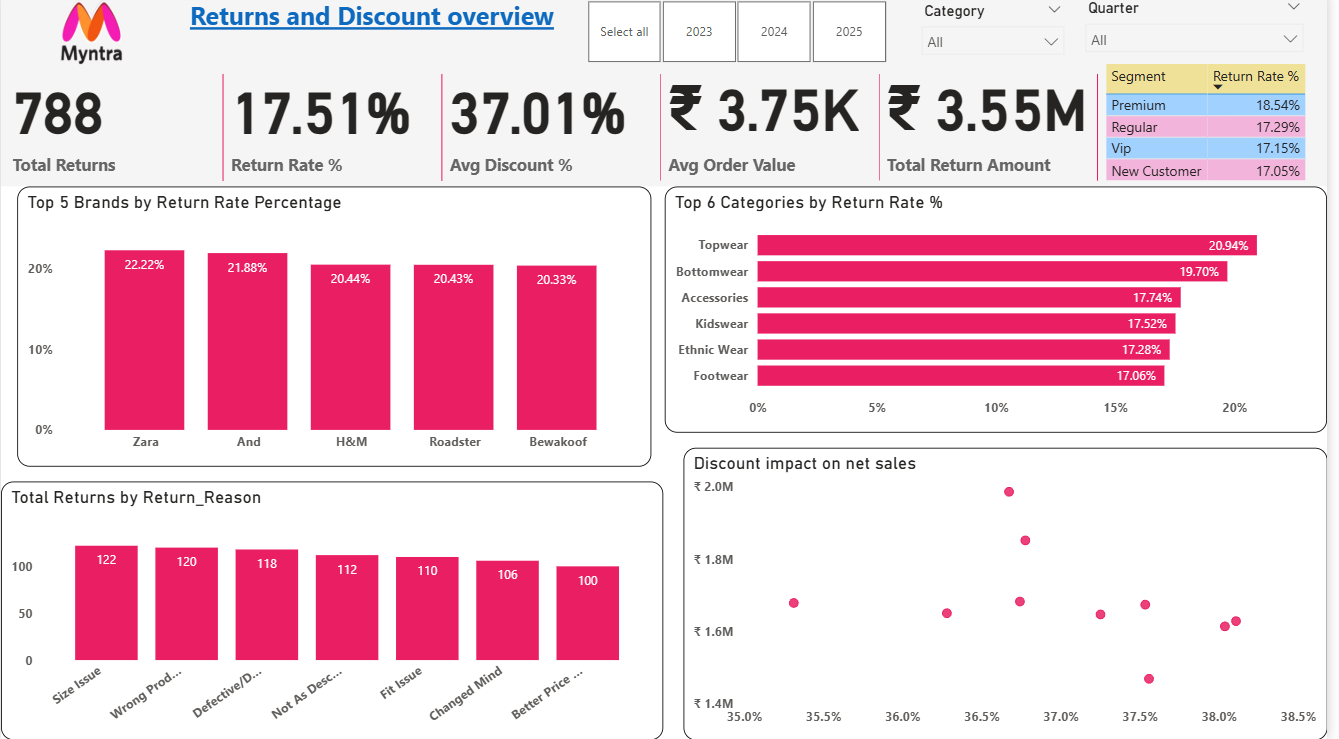

The dashboard page shown, as its layout file describes it:
{"tool":"powerbi","page":{"name":"Returns & Discounts","canvas":[1280,720],"ordinal":1},"visuals":[{"type":"shape","box":[0,185.2,1280.3,535.2],"z":0},{"type":"image","box":[0,0,177,72.7],"z":1000},{"type":"slicer","fields":{"Values":["Date_Table.Quarter"]},"box":[1036,0,230.5,72.7],"z":2000},{"type":"textbox","box":[177,0,363.6,72.7],"z":3000},{"type":"slicer","fields":{"Values":["Date_Table.Year"]},"box":[540.7,0,337.6,72.7],"z":4000},{"type":"cardVisual","fields":{"Data":["return_measures.Total Returns","return_measures.Return Rate %","return_measures.Avg Discount %","return_measures.Avg Order Value","return_measures.Total Return Amount"]},"box":[0,72.7,1066.2,113.9],"z":5000},{"type":"barChart","title":"Top 6 Categories by Return Rate % ","fields":{"Category":["dim_product.Category"],"Y":["return_measures.Return Rate %"]},"box":[640.8,185.2,639.5,237.4],"z":6000},{"type":"columnChart","title":"Top 5 Brands by Return Rate Percentage","fields":{"Category":["dim_product.Brand"],"Y":["return_measures.Return Rate %"]},"box":[15.1,185.2,612,270.3],"z":7000},{"type":"columnChart","fields":{"Category":["fact_returns.Return_Reason"],"Y":["return_measures.Total Returns"]},"box":[0,470.7,639.5,249.7],"z":8000},{"type":"slicer","fields":{"Values":["dim_product.Category"]},"box":[878.2,2.7,157.8,70],"z":9000},{"type":"tableEx","fields":{"Values":["dim_customer.Segment","return_measures.Return Rate %"]},"box":[1060.7,63.1,207.2,130.4],"z":10000},{"type":"scatterChart","title":" Discount impact on net sales","fields":{"X":["return_measures.Avg Discount %"],"Y":["sales_measures.Total Net Revenue"],"Category":["dim_product.Category"]},"box":[658.7,437.7,621.6,282.7],"z":11000}]}

Visuals, with their boxes in screenshot pixels (x1, y1, x2, y2), scaled from the page's 1280x720 canvas onto the 1339x739 screenshot:
shape: 0 190 1338 738
image: 0 0 185 75
slicer - Date_Table.Quarter: 1084 0 1325 75
textbox: 185 0 566 75
slicer - Date_Table.Year: 566 0 919 75
cardVisual - return_measures.Total Returns x return_measures.Return Rate %: 0 75 1115 192
"Top 6 Categories by Return Rate % " barChart: 670 190 1338 434
"Top 5 Brands by Return Rate Percentage" columnChart: 16 190 656 468
columnChart - fact_returns.Return_Reason x return_measures.Total Returns: 0 483 669 738
slicer - dim_product.Category: 919 3 1084 75
tableEx - dim_customer.Segment x return_measures.Return Rate %: 1110 65 1326 199
" Discount impact on net sales" scatterChart: 689 449 1338 738
